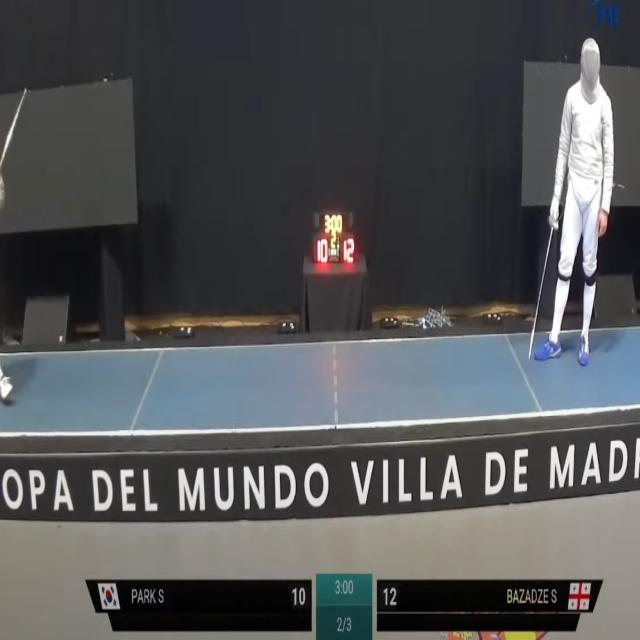fencer: (552, 25, 615, 380)
overlayLeft: (80, 577, 270, 614)
overlayRight: (415, 578, 606, 610)
scoreLeft: (273, 579, 312, 612)
scoreRight: (376, 579, 413, 610)
